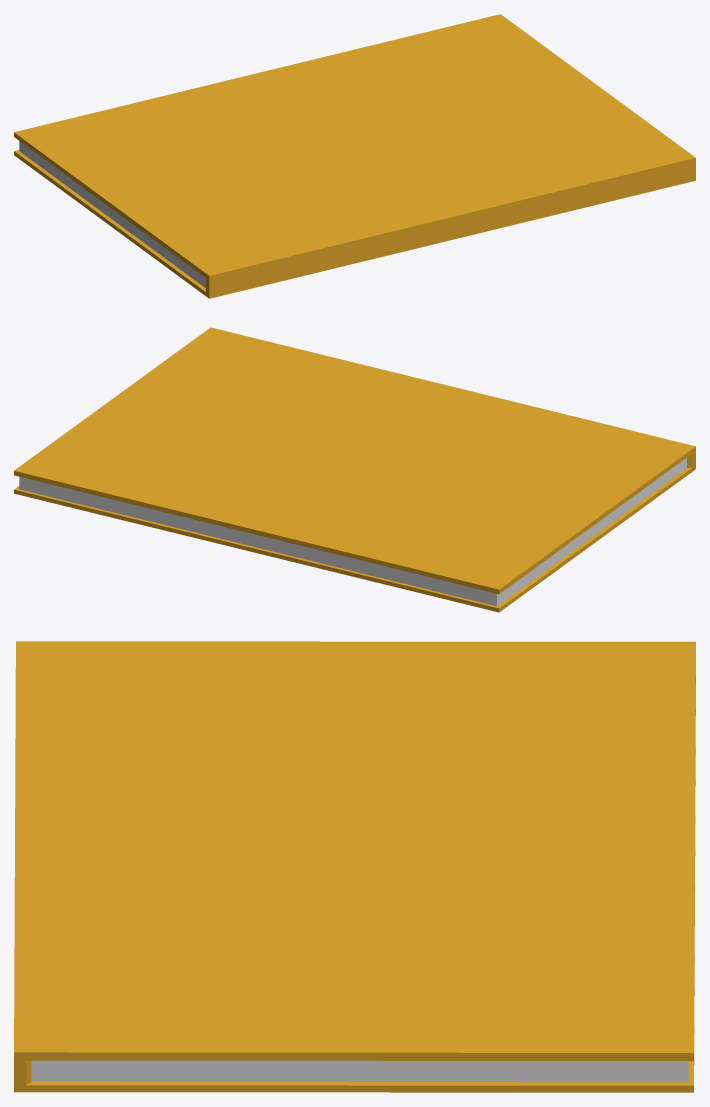
File: magazine.fbx
3 renders of one model, top to bottom at view 1: azimuth 30°, elevation 25°; view 2: azimuth 150°, elevation 25°; view 3: azimuth 270°, elevation 25°, orthographic. The views are drawn at different scales.
Parts seen in each view (by area): view 1: H_Magazine; view 2: H_Magazine; view 3: H_Magazine.
Boxes of the visible parts, x1,y1,x2,y2 form: H_Magazine: [14, 14, 695, 298]; H_Magazine: [14, 327, 695, 612]; H_Magazine: [14, 641, 695, 1092].
Bounding box in the file's own units: 183 × 128 × 8.23.
